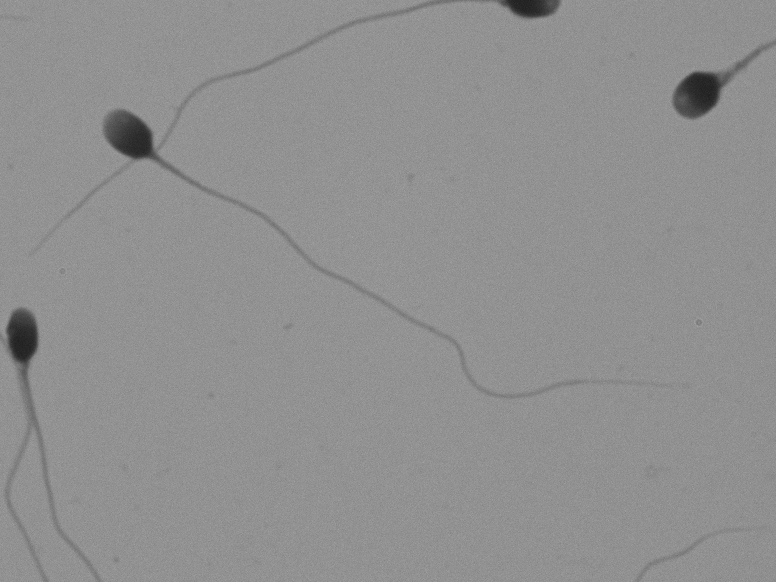Abnormal: (3, 285, 111, 561), (655, 27, 747, 182)
Normal: (72, 79, 667, 487)
